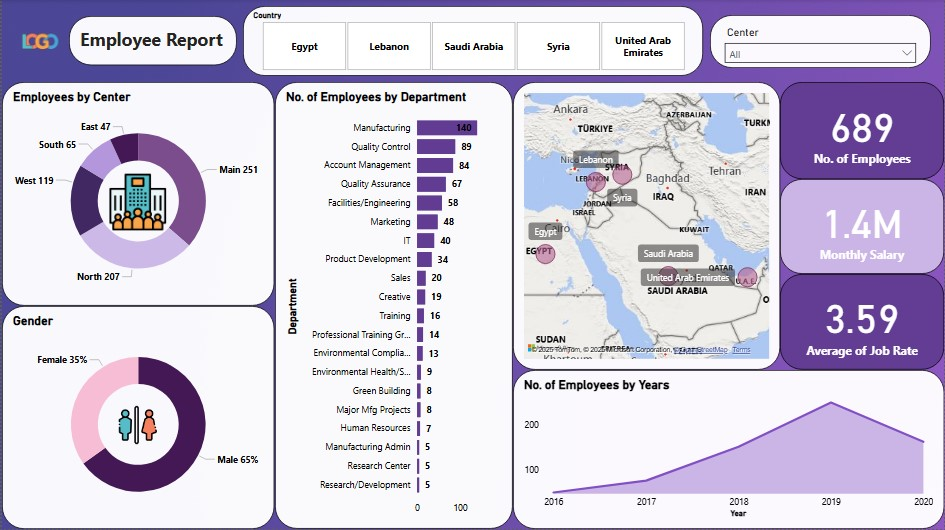

The dashboard page shown, as its layout file describes it:
{"tool":"powerbi","page":{"name":"Employees Report DashBoard","canvas":[1280,720],"ordinal":0},"visuals":[{"type":"clusteredBarChart","title":"No. of Employees by Department","fields":{"Category":["Employees.Department"],"Y":["CountNonNull(Employees.No)"]},"box":[370.2,112.9,323.4,607],"z":0},{"type":"donutChart","title":"Employees by Center","fields":{"Category":["Employees.Center"],"Y":["CountNonNull(Employees.No)"]},"box":[0,112.9,370.2,304.2],"z":1000},{"type":"donutChart","title":"Gender","fields":{"Category":["Employees.Gender"],"Y":["CountNonNull(Employees.Gender)"]},"box":[0,417,370.2,302.8],"z":2000},{"type":"map","fields":{"Category":["Employees.Country"]},"box":[694.2,112.8,362.7,391.2],"z":3000},{"type":"areaChart","title":"No. of Employees by Years","fields":{"Category":["Employees.Start Date.Variation.Date Hierarchy.Year","Employees.Start Date.Variation.Date Hierarchy.Quarter","Employees.Start Date.Variation.Date Hierarchy.Month","Employees.Start Date.Variation.Date Hierarchy.Day"],"Y":["CountNonNull(Employees.No)"]},"box":[694.2,504,585.5,216],"z":4000},{"type":"card","fields":{"Values":["CountNonNull(Employees.No)"]},"box":[1056.9,112.8,222.8,131.8],"z":5000},{"type":"card","fields":{"Values":["Sum(Employees.Monthly Salary)"]},"box":[1056.9,244.5,222.8,129.1],"z":6000},{"type":"card","fields":{"Values":["Avg(Employees.Job Rate)"]},"box":[1056.9,373.6,222.8,130.4],"z":7000},{"type":"slicer","fields":{"Values":["Employees.Country"]},"box":[327.6,9.6,624.9,95],"z":8000},{"type":"slicer","fields":{"Values":["Employees.Center"]},"box":[962.1,22,300,71.6],"z":9000},{"type":"textbox","box":[81.5,23.1,236.4,67.9],"z":10000},{"type":"image","box":[12.4,39.9,78.5,35.8],"z":11000},{"type":"image","box":[153.5,544.8,62.5,67.9],"z":12000},{"type":"image","box":[125,232.3,118.2,86.9],"z":13000}]}

Visuals, with their boxes in screenshot pixels (x1, y1, x2, y2), scaled from the page's 1280x720 canvas onto the 945x530 screenshot:
"No. of Employees by Department" clusteredBarChart: left=273, top=83, right=512, bottom=529
"Employees by Center" donutChart: left=0, top=83, right=273, bottom=307
"Gender" donutChart: left=0, top=307, right=273, bottom=529
map - Employees.Country: left=513, top=83, right=780, bottom=371
"No. of Employees by Years" areaChart: left=513, top=371, right=944, bottom=529
card - CountNonNull(Employees.No): left=780, top=83, right=944, bottom=180
card - Sum(Employees.Monthly Salary): left=780, top=180, right=944, bottom=275
card - Avg(Employees.Job Rate): left=780, top=275, right=944, bottom=371
slicer - Employees.Country: left=242, top=7, right=703, bottom=77
slicer - Employees.Center: left=710, top=16, right=932, bottom=69
textbox: left=60, top=17, right=235, bottom=67
image: left=9, top=29, right=67, bottom=56
image: left=113, top=401, right=159, bottom=451
image: left=92, top=171, right=180, bottom=235
